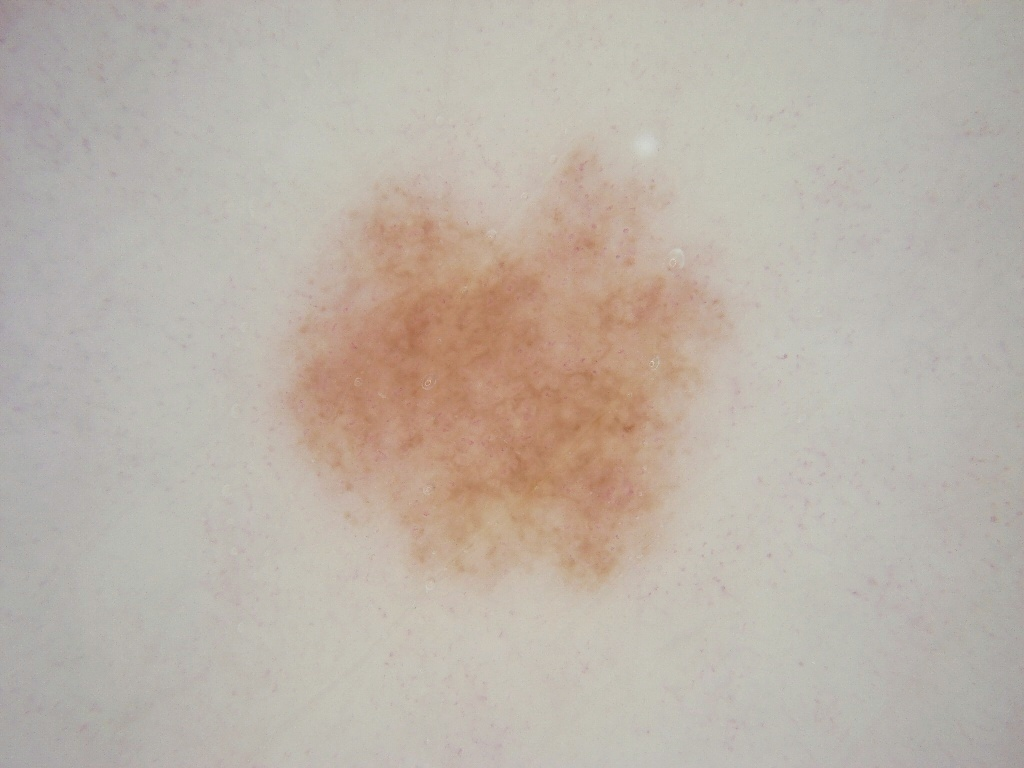Detected Lesion: (269, 144, 739, 598)
